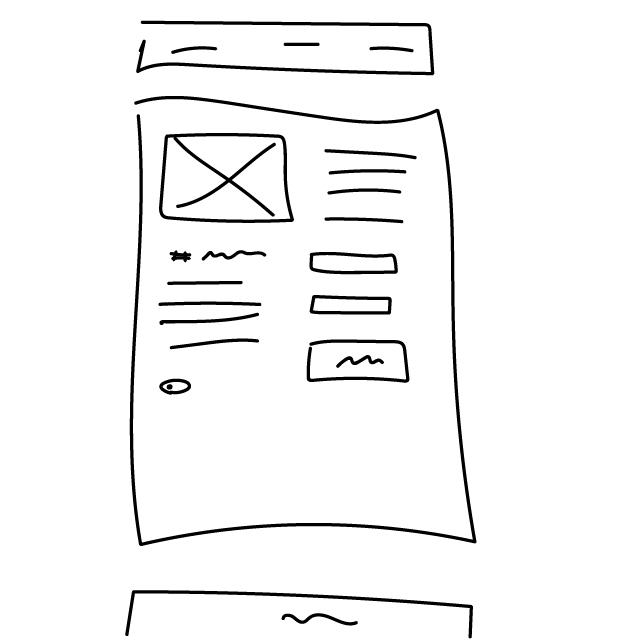button: (306, 339, 414, 388)
checkbox: (159, 373, 197, 399)
container: (125, 87, 496, 567)
footer: (120, 584, 483, 640)
frame: (158, 129, 297, 228)
heading: (166, 241, 275, 269)
input: (307, 248, 404, 281), (310, 290, 398, 322)
nav: (129, 16, 443, 84)
text: (317, 142, 427, 234), (153, 279, 270, 358)
